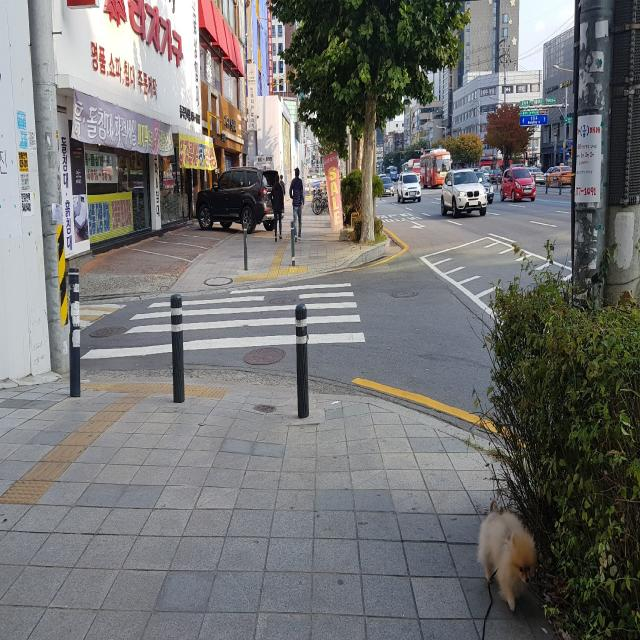횡단보도: (78, 280, 366, 361)
